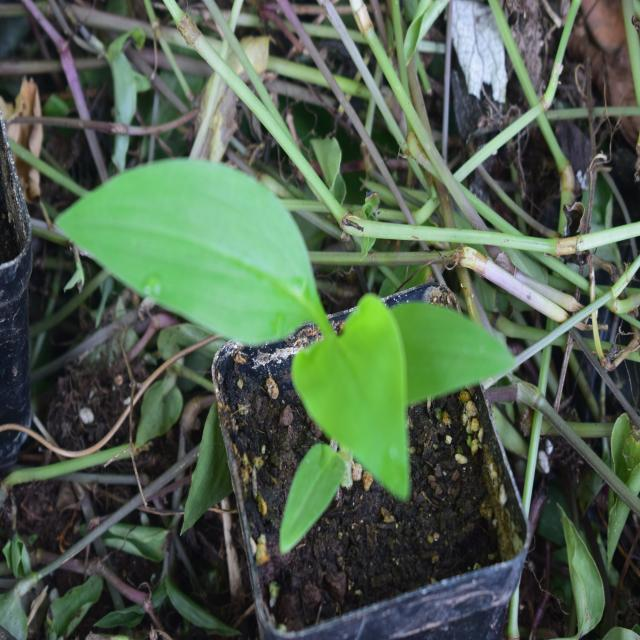Common Dayflower: (92, 140, 484, 510)
